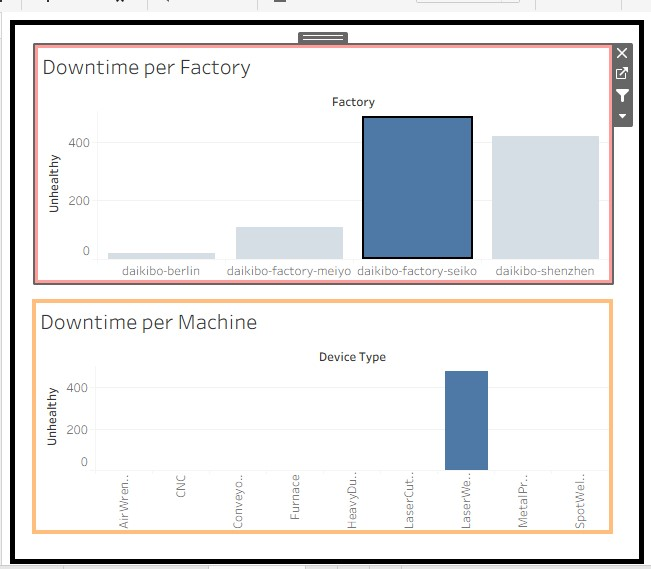

The page's visual inventory and layout, read from the dashboard file:
{"tool":"tableau","page":{"name":"Dashboard ","canvas":[650,860],"ordinal":0},"visuals":[{"type":"worksheet","title":"Downtime per Factory","mark":"Automatic","rows":["Calculation_761671324661673985"],"cols":["factory"],"box":[33,50.7,577,365.5]},{"type":"worksheet","title":"Downtime per Machine","mark":"Automatic","rows":["Calculation_761671324661673985"],"cols":["deviceType"],"box":[30,440.8,581,360.9]}]}

Visuals, with their boxes in screenshot pixels (x1, y1, x2, y2):
"Downtime per Factory" worksheet: [x1=248, y1=19, x2=639, y2=267]
"Downtime per Machine" worksheet: [x1=246, y1=283, x2=639, y2=528]
